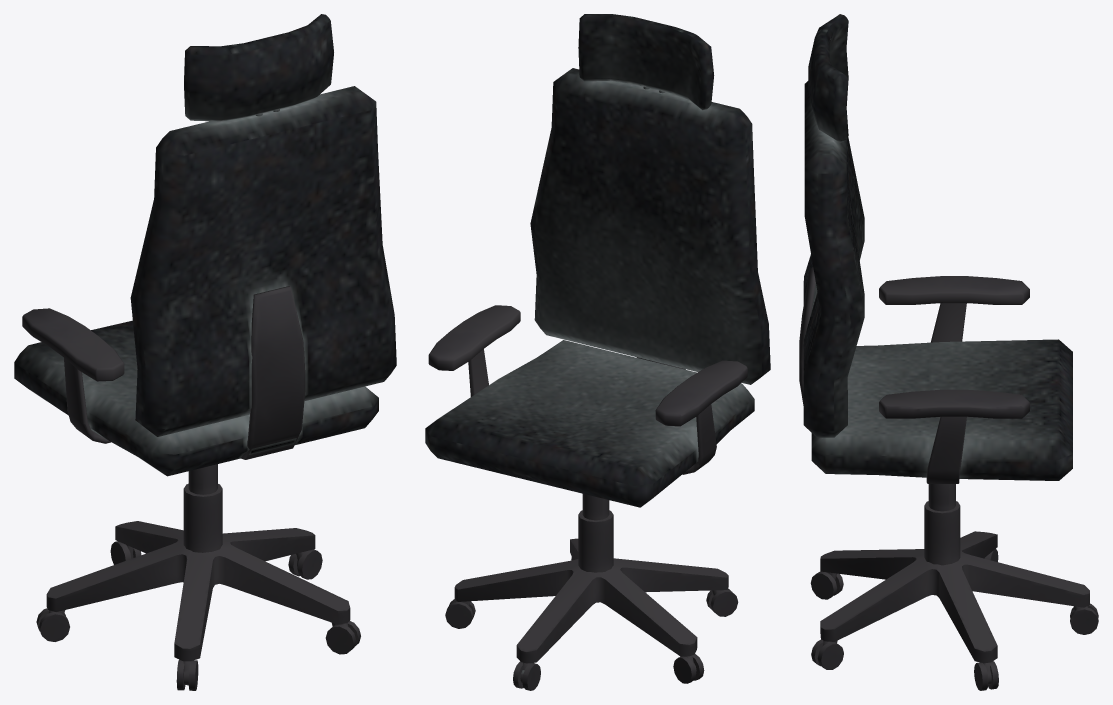
Rendered from kreslo2.glb.
The picture shows the model from 3 angles, left to right: view 1: azimuth 30°, elevation 25°; view 2: azimuth 150°, elevation 25°; view 3: azimuth 270°, elevation 25°; orthographic projection. The views are drawn at different scales.
Parts seen in each view (by area): view 1: Plane.002; view 2: Plane.002; view 3: Plane.002.
Part boxes in pixels (x1,y1,x2,y2): Plane.002: (14, 14, 396, 690); Plane.002: (425, 14, 770, 690); Plane.002: (799, 14, 1098, 690).
Bounding box in the file's own units: 0.5746 × 1.2 × 0.554.
1 material, 1 textured.
